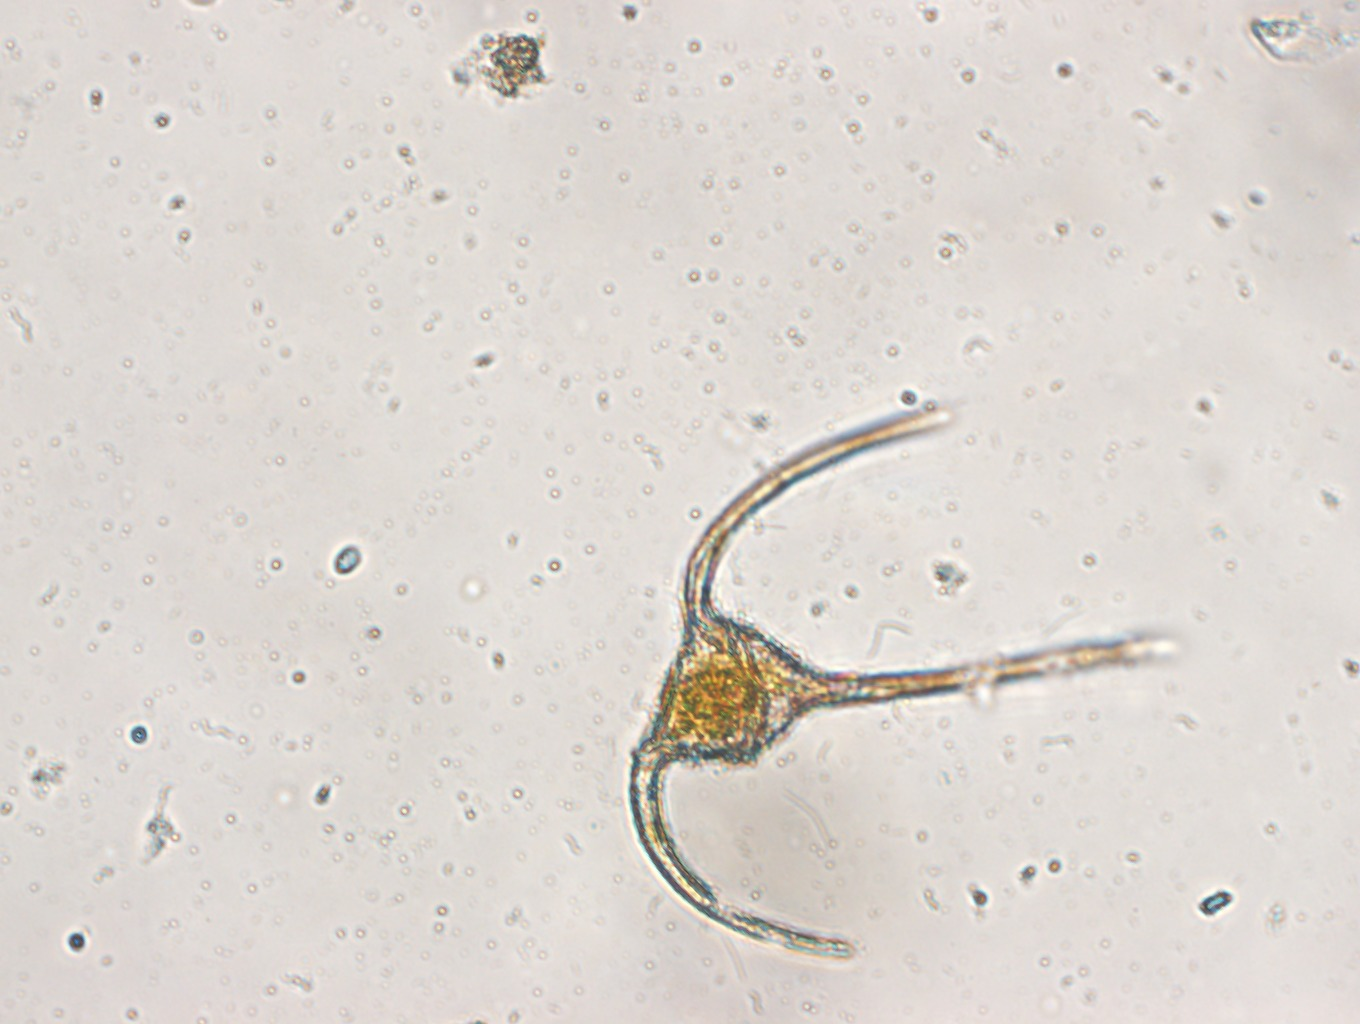ceratium trichoceros: (619, 389, 1190, 975)
